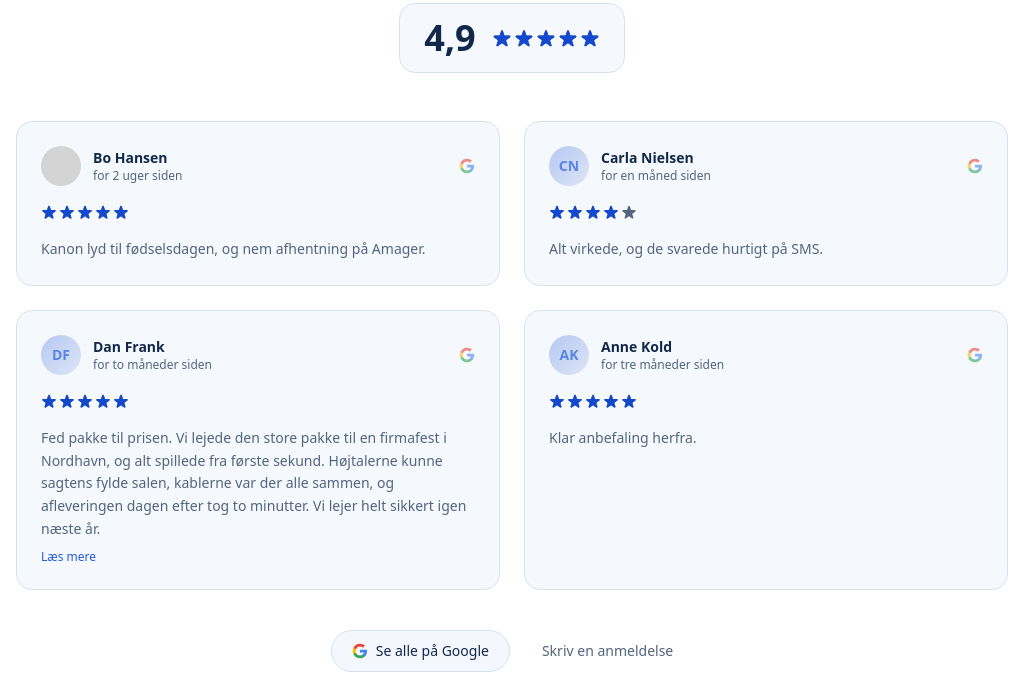
it: Google-anmeldelser på sitet › folder lange anmeldelser ud uden at ændre teksten
(page scrolled)
Expected: the text "Fed pakke til prisen" shows "Fed pakke til prisen. Vi lejede den store pakke til en firmafest i Nordhavn, og alt spillede fra første sekund. Højtalerne kunne sagtens fylde salen, kablerne v", 41,428 -> 466,538
Click the button "Læs mere". click: click(68, 556)
box: 41,548 -> 96,564
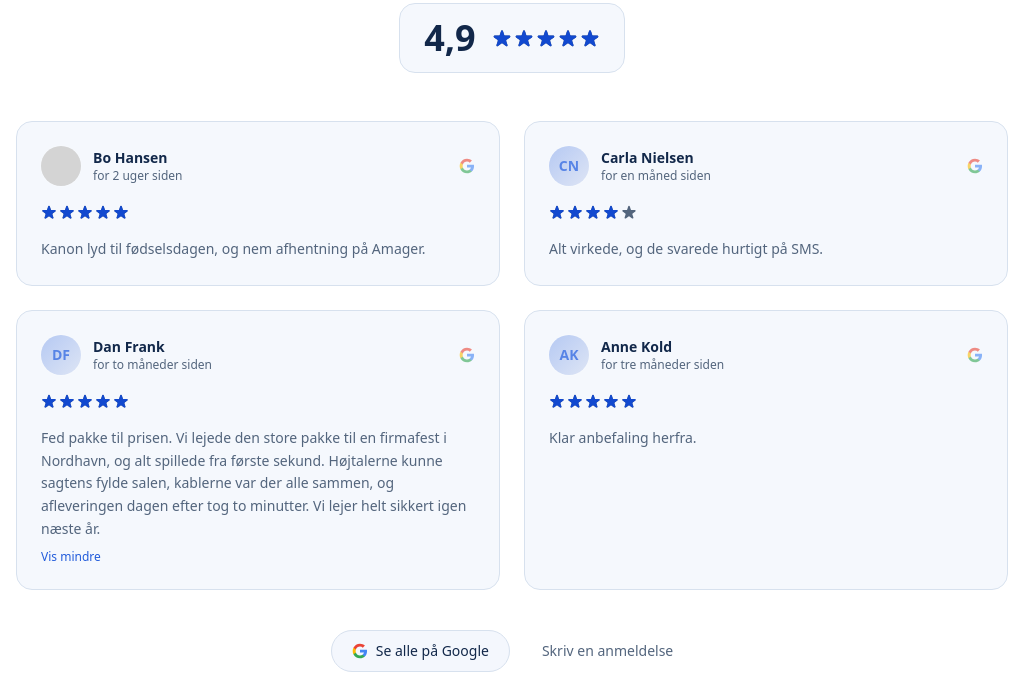
Now the button "Vis mindre" is shown, box 41,548 -> 101,564
